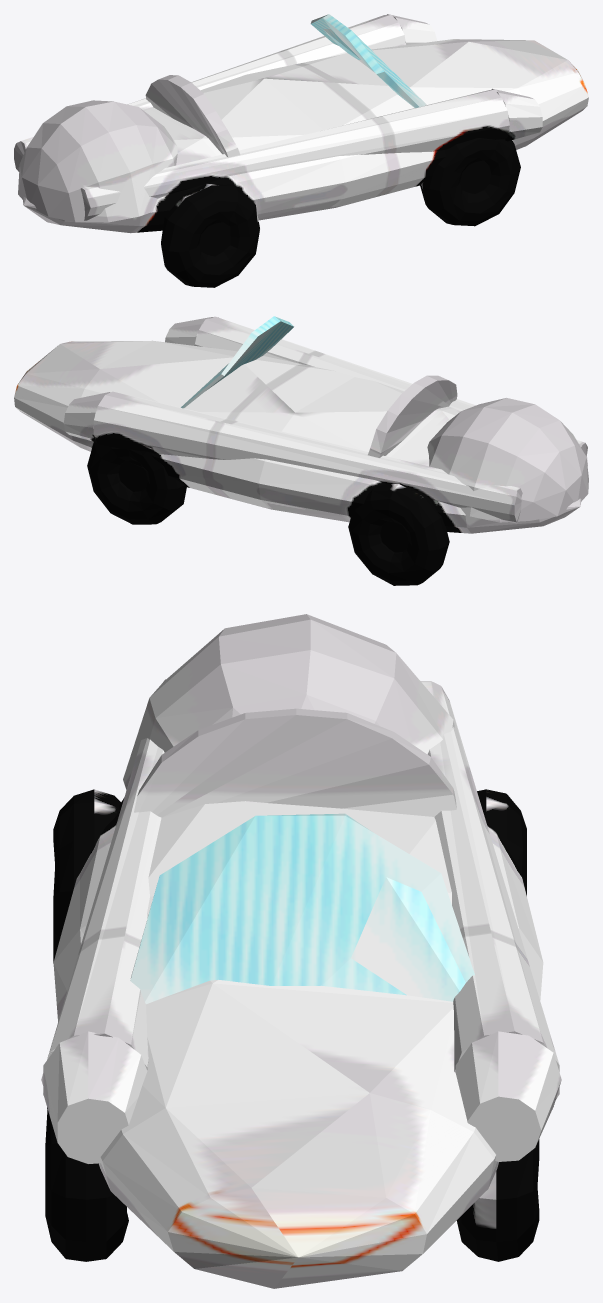
Rendered from TownCar.glb.
3 renders of one model, top to bottom at view 1: azimuth 30°, elevation 25°; view 2: azimuth 150°, elevation 25°; view 3: azimuth 270°, elevation 25°, orthographic. The views are drawn at different scales.
Visible parts, largest first — view 1: TownCar; view 2: TownCar; view 3: TownCar.
Part boxes in pixels (bbox=[...]): TownCar: bbox=[14, 14, 588, 287]; TownCar: bbox=[14, 316, 588, 585]; TownCar: bbox=[41, 614, 561, 1288].
Size of the model in its own units: 134 by 41.79 by 54.33.
1 material, 1 textured.
